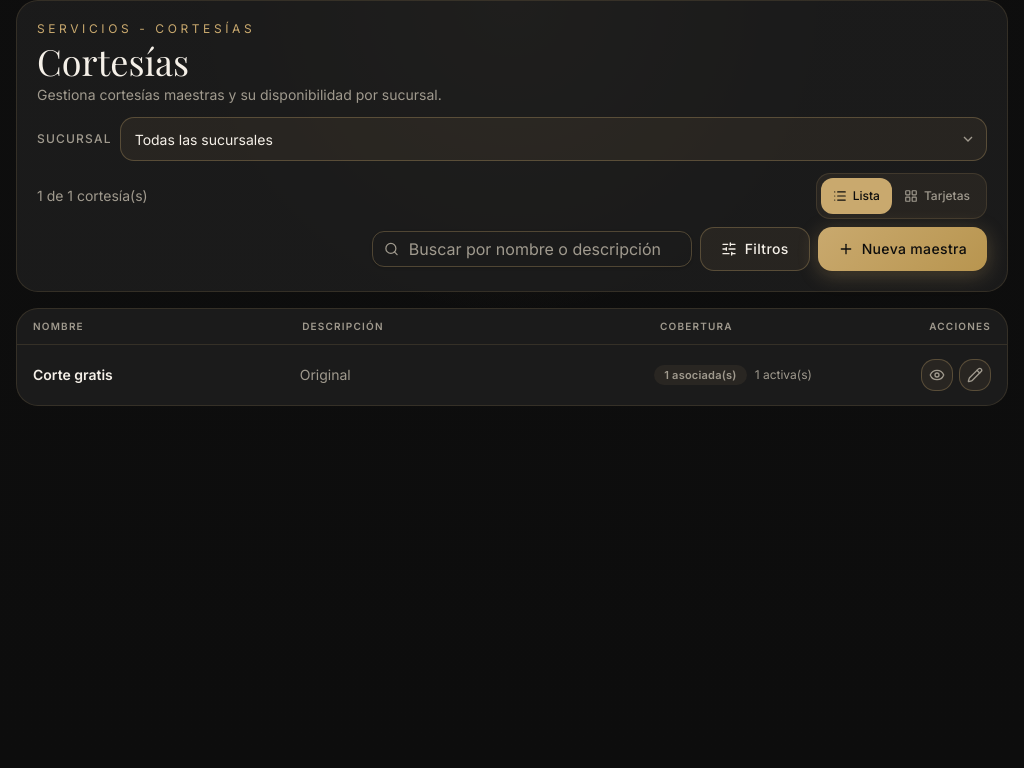
Scenario: QA08: save no expone mensajes técnicos arbitrarios
Expected: the text "Corte gratis" is shown, [33,366,113,383]
Click the button titled "Editar cortesía maestra" at (975, 375), box [959,359,991,391]
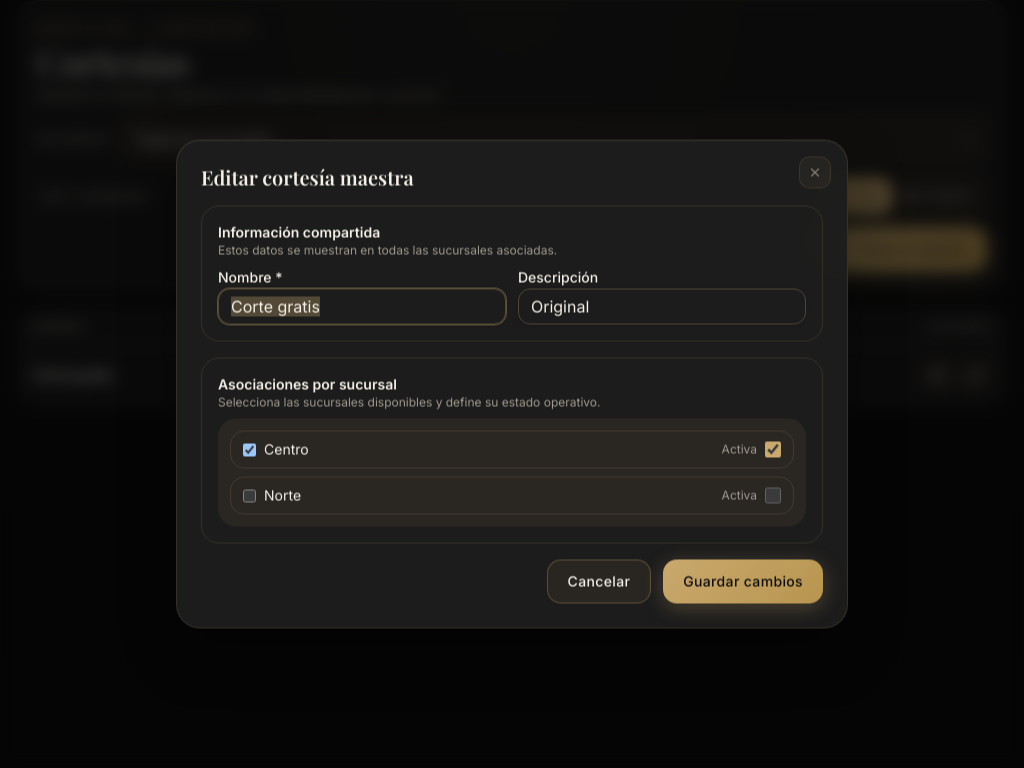
Replace the text in the field labelled "Descripción" with "Cambio QA10" at (662, 306), box [518,288,806,324]
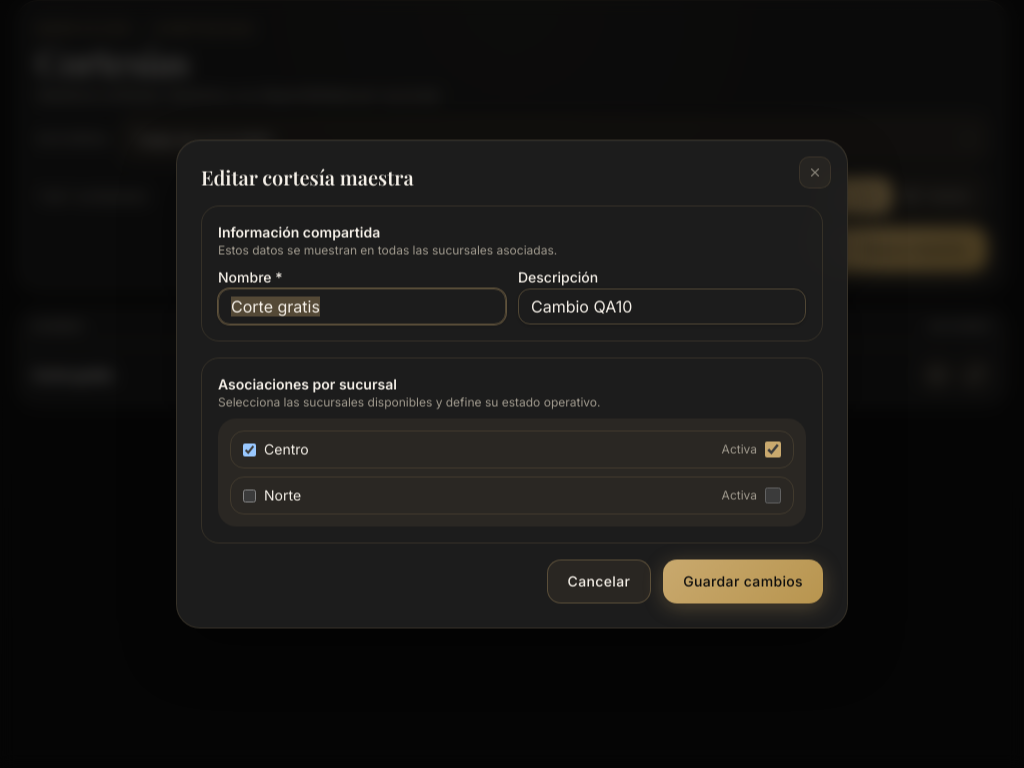
Click the button "Guardar cambios" at (743, 582), box [663,560,823,604]
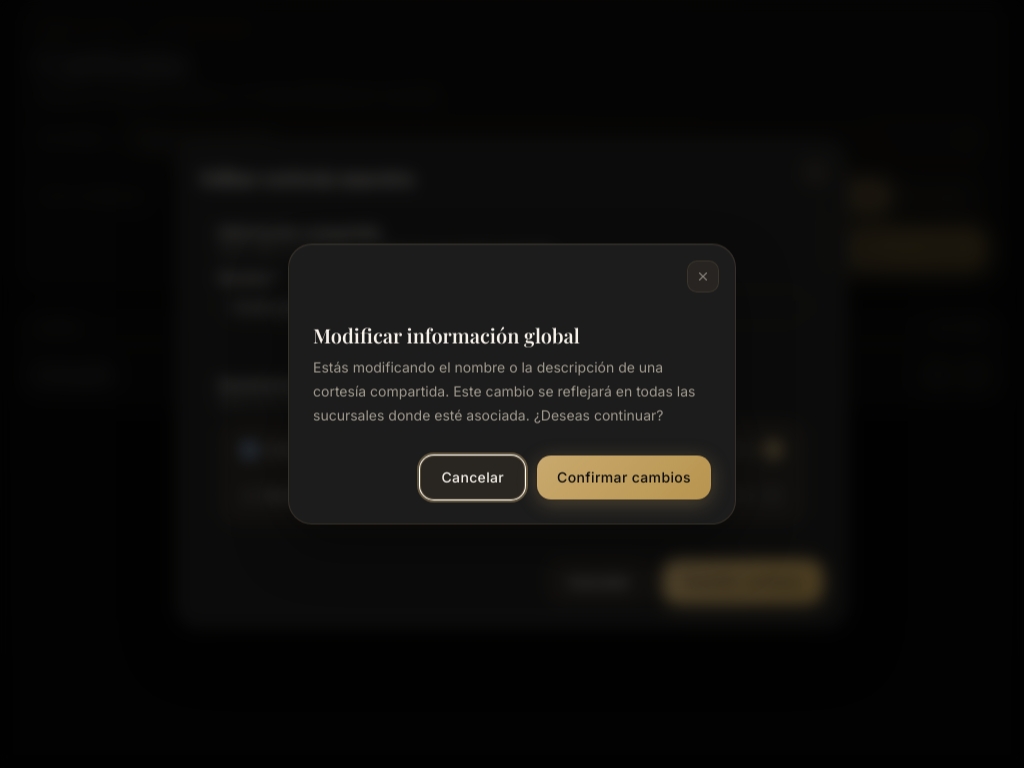
Click the button "Confirmar cambios" at (624, 478), box [537,456,711,500]
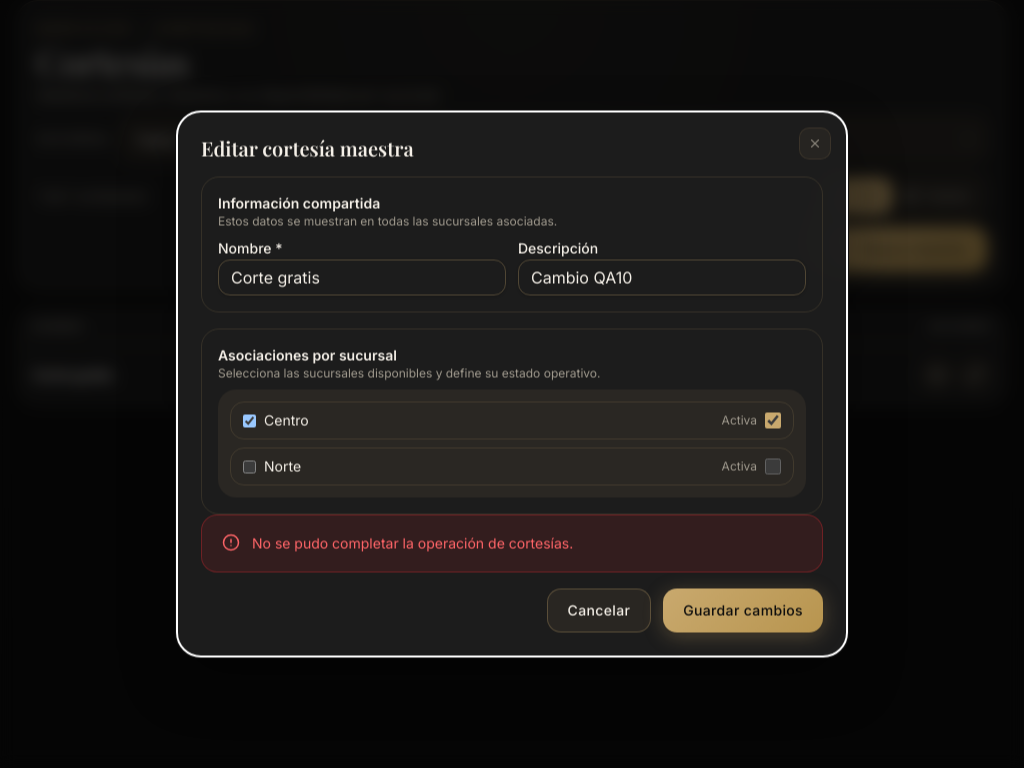
Expected: the message reads "No se pudo completar la operación de cortesías.", [252,534,573,552]
